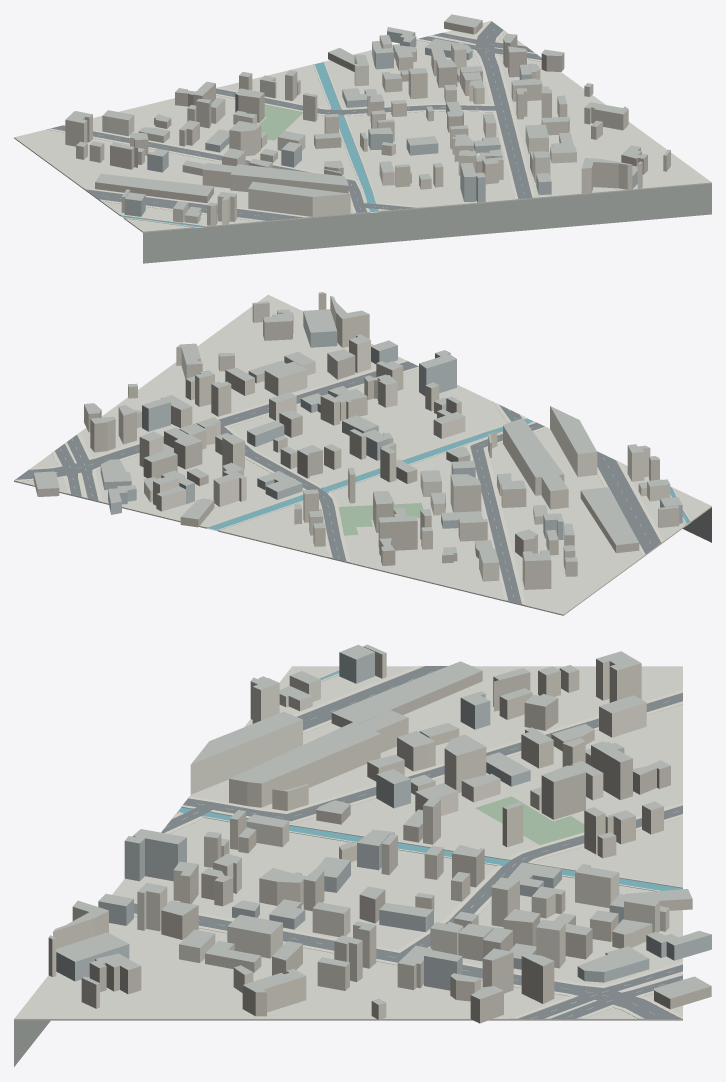
The picture shows the model from 3 angles, top to bottom: view 1: azimuth 30°, elevation 25°; view 2: azimuth 150°, elevation 25°; view 3: azimuth 270°, elevation 25°; orthographic projection. The views are drawn at different scales.
Visible parts, largest first — view 1: city; view 2: city; view 3: city.
Part boxes in pixels (x1=…): city: x1=14, y1=14, x2=711, y2=263; city: x1=14, y1=292, x2=711, y2=615; city: x1=14, y1=644, x2=711, y2=1066.
Bounding box in the file's own units: 507 × 57 × 418.
